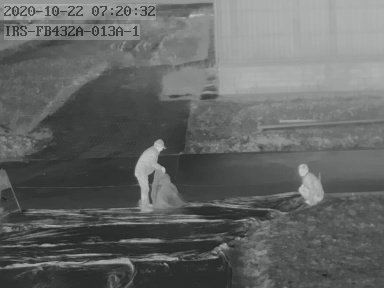person: (134, 139, 166, 214), (294, 164, 326, 203)
